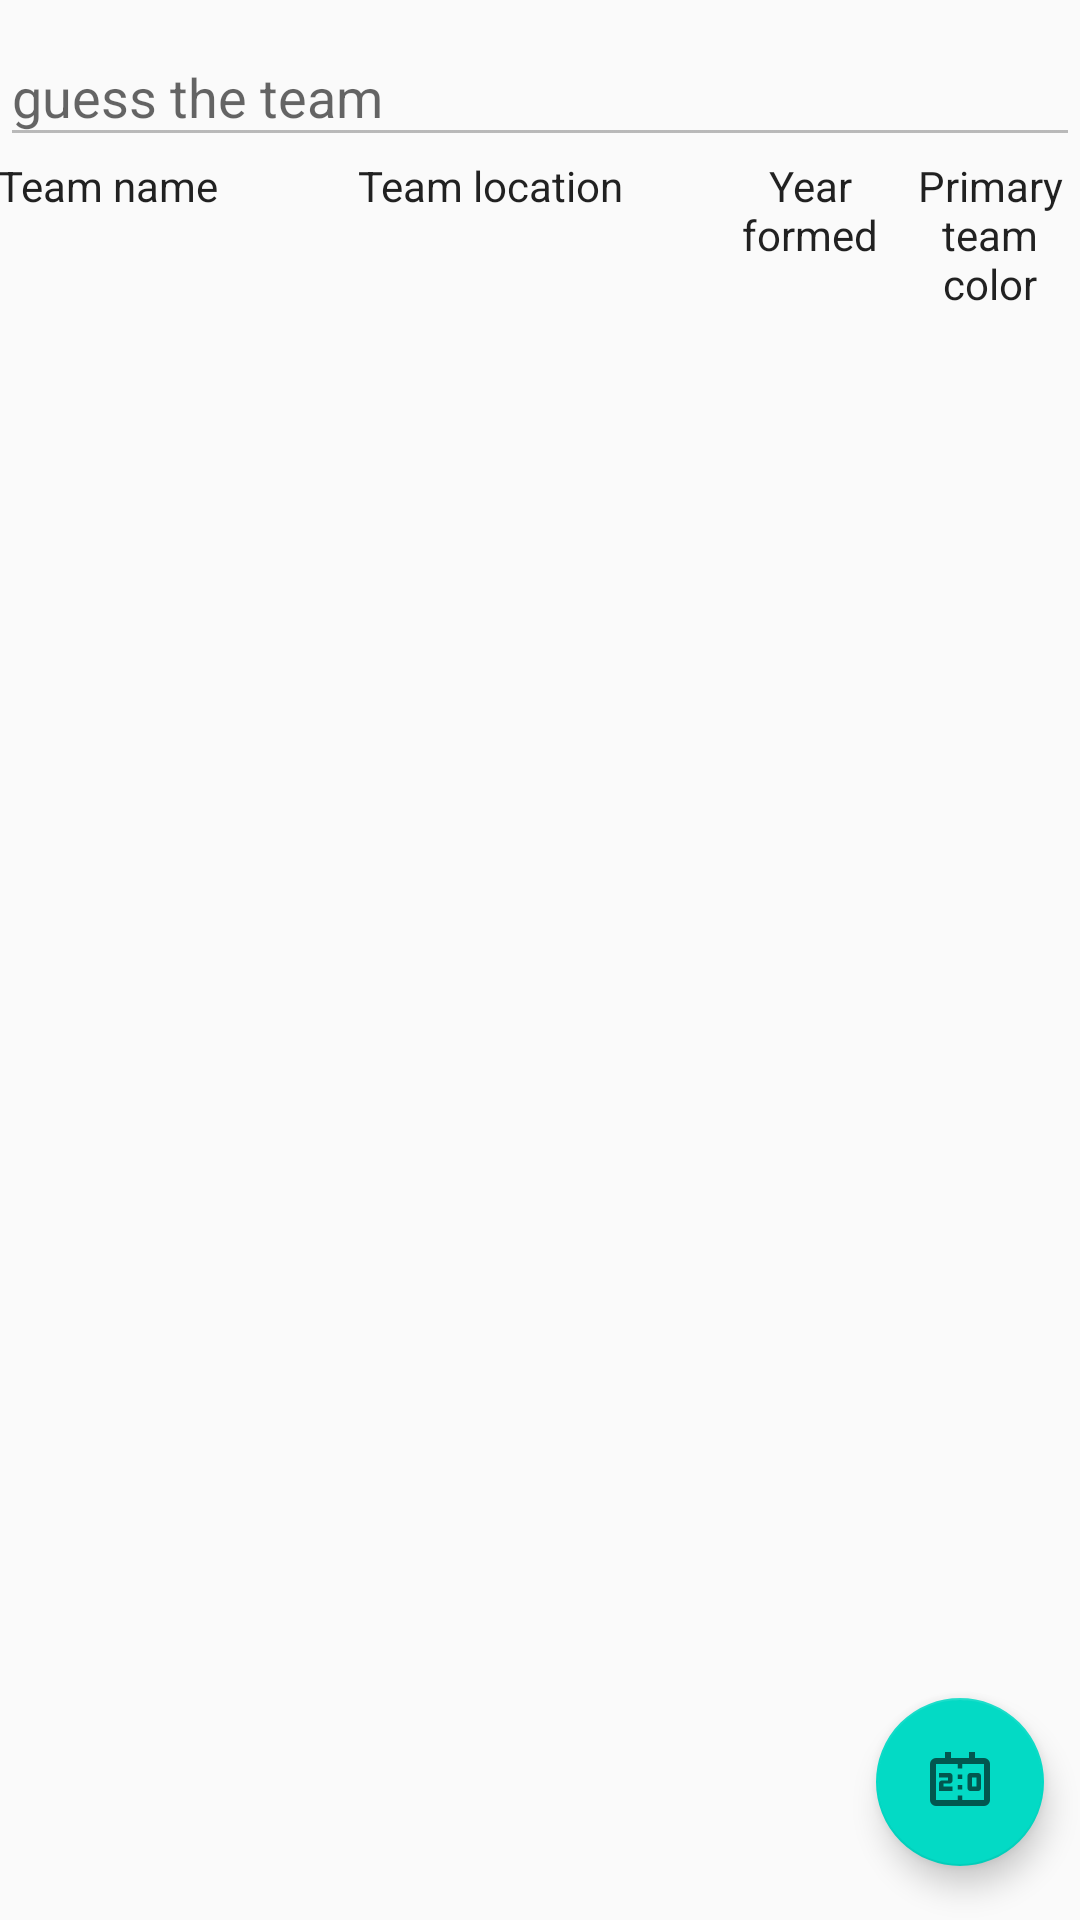

Icons on this 1080x1920 Android screen, each with its box as (x1, y1, x2, y2):
Navigate to high scores: (876, 1698, 1046, 1883)
